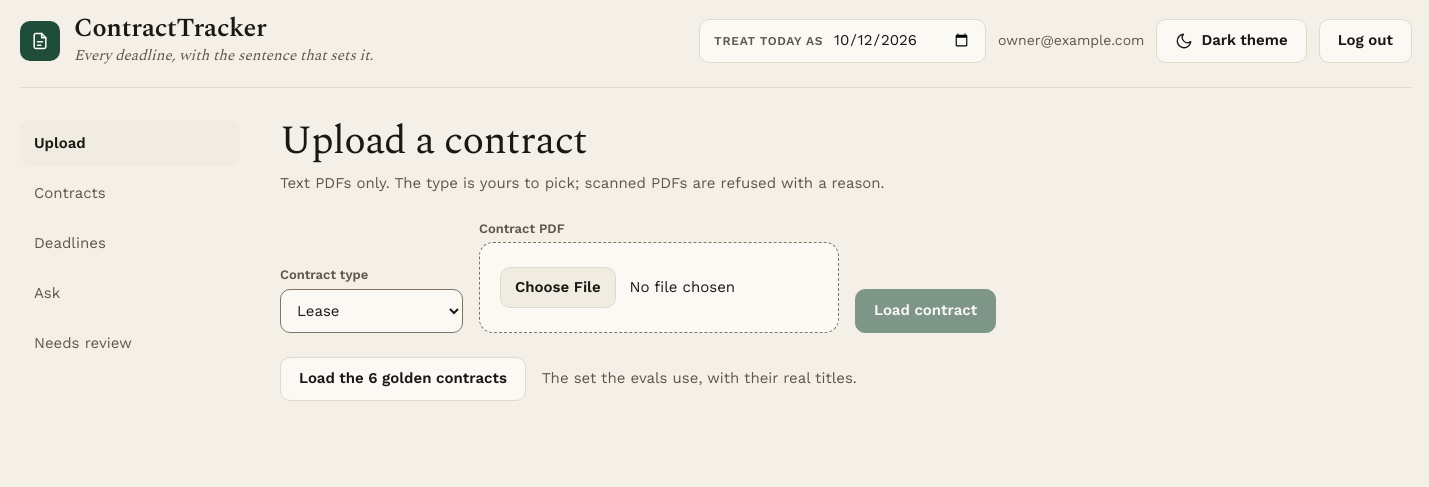
it: the session › TC-0206: other errors do not sign the user out
Click the tab "Contracts". click: (130, 193)
box: [20, 170, 240, 216]
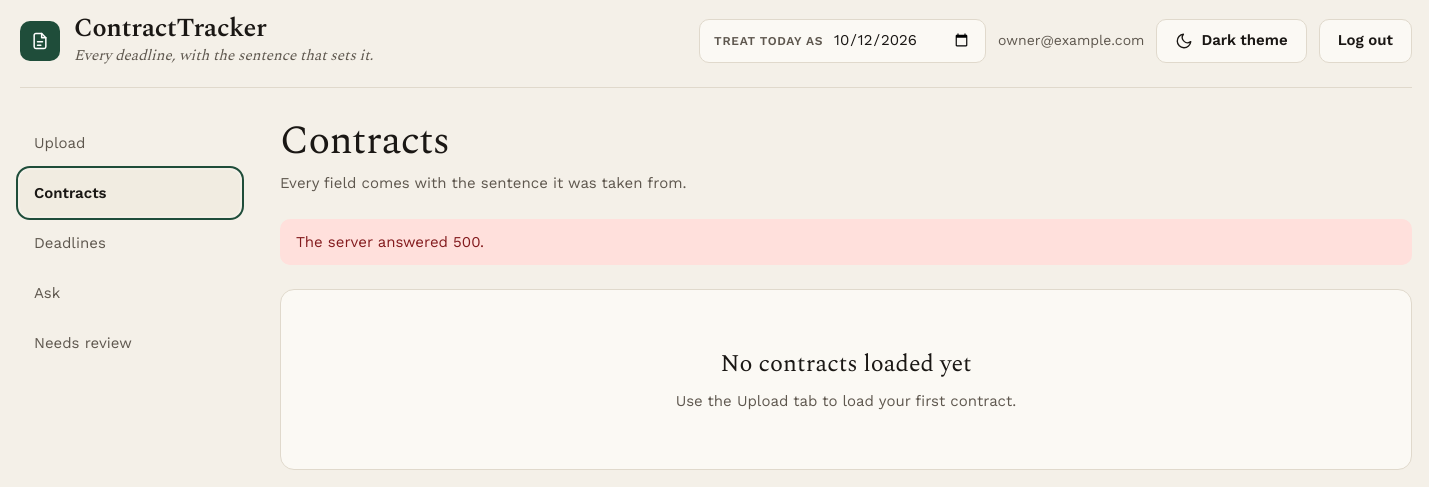
Expected: the message reads "The server answered 500.", [296, 233, 484, 251]
